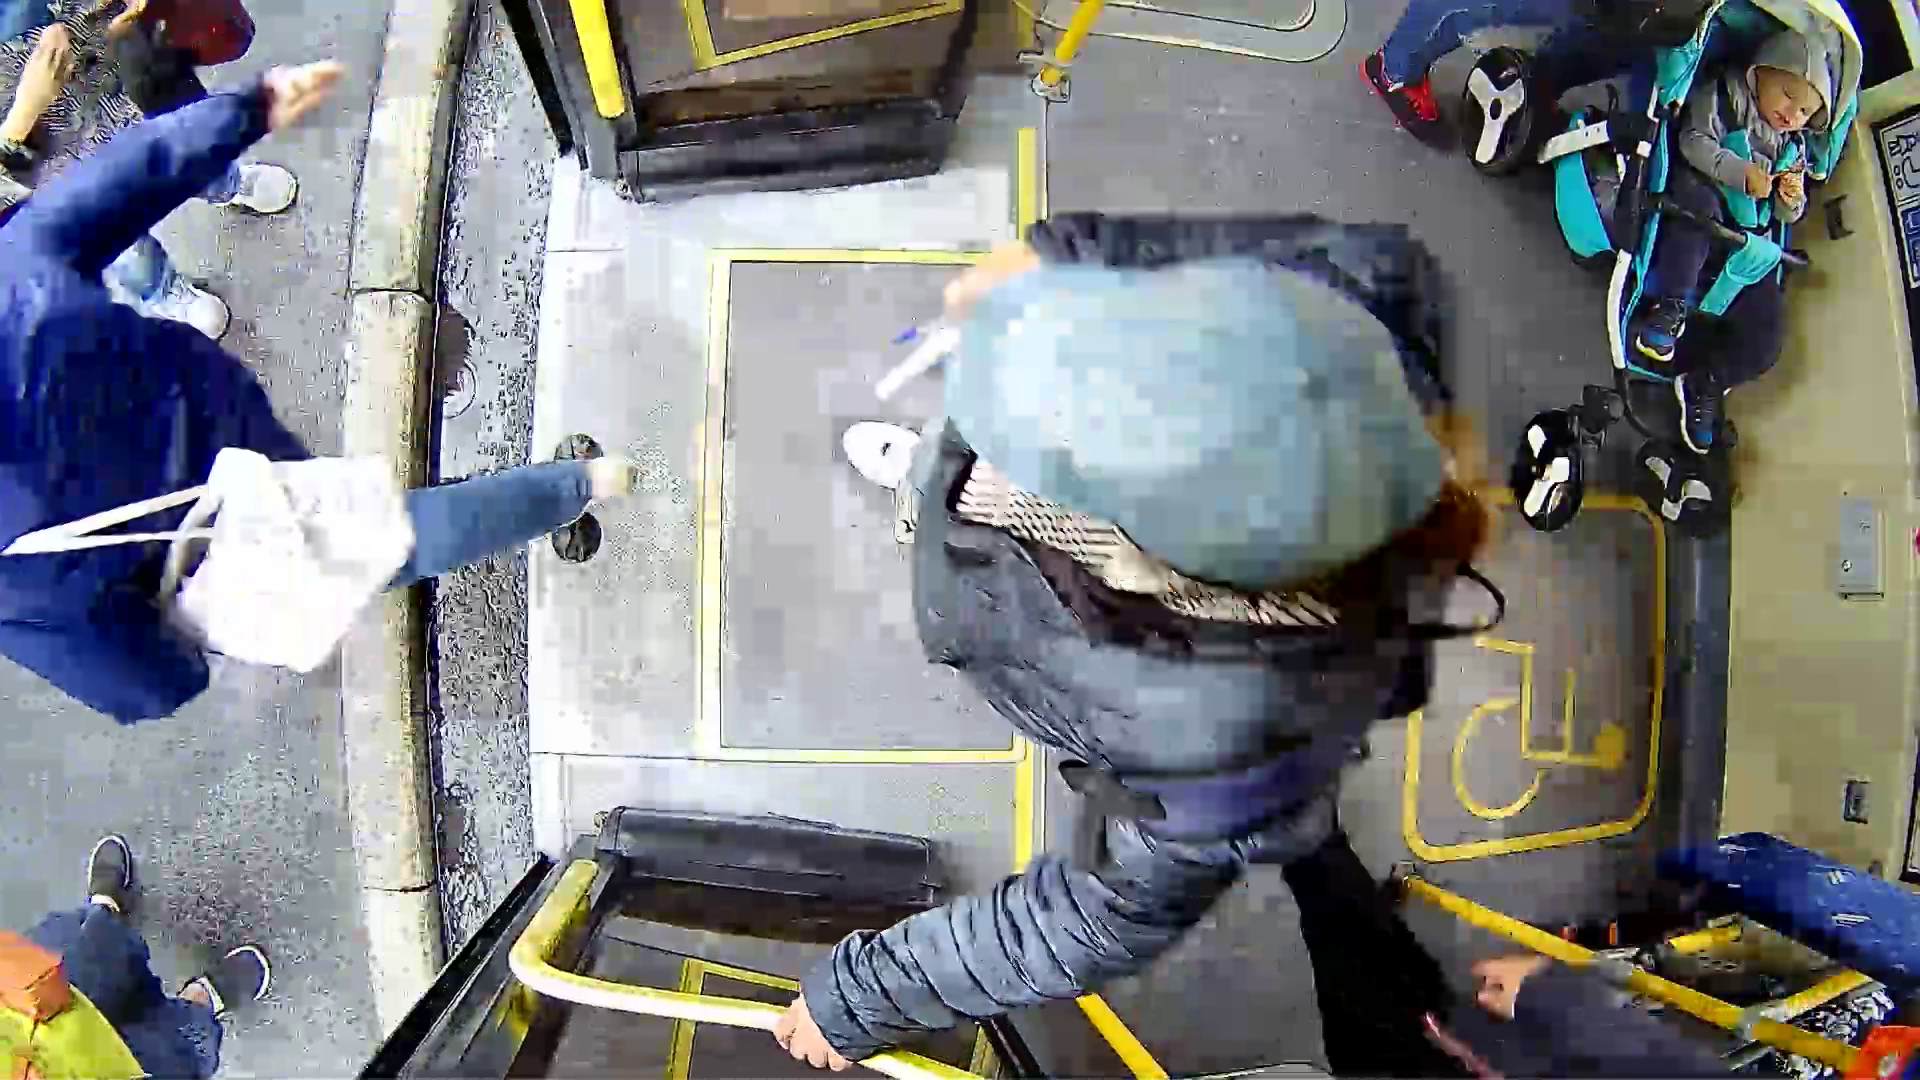person: (805, 163, 1528, 900)
